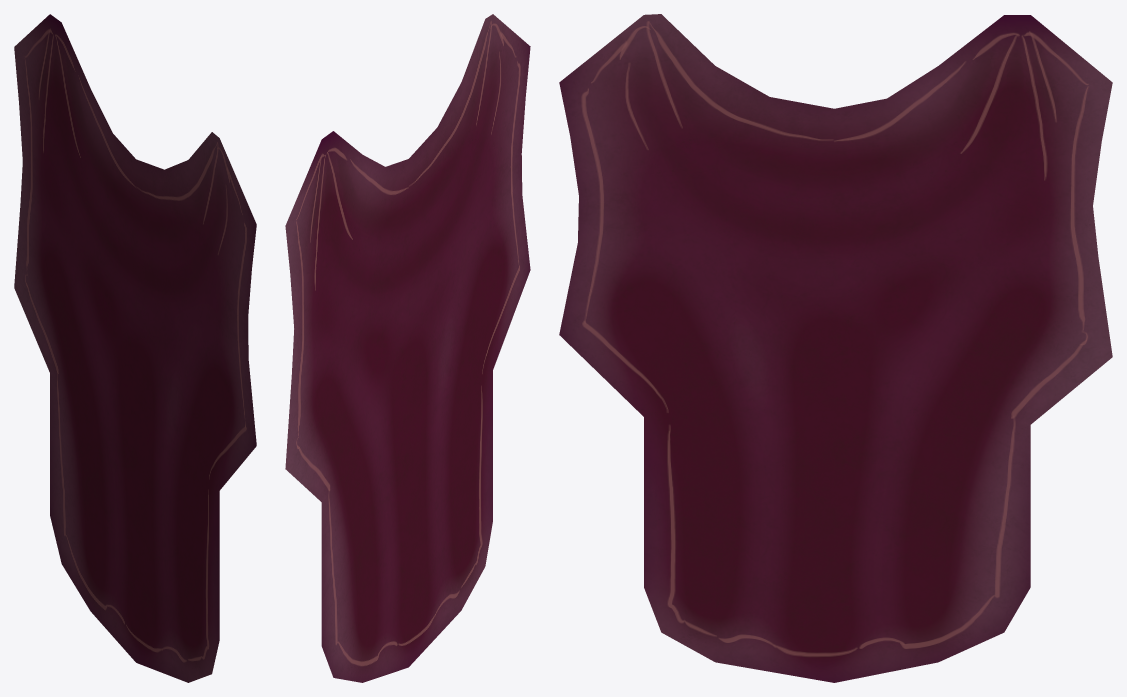
The model's file is SM_Shirt_01.fbx.
3 views of the same model, side by side, from view 1: azimuth 30°, elevation 25°; view 2: azimuth 150°, elevation 25°; view 3: azimuth 270°, elevation 25° (orthographic). The views are drawn at different scales.
Parts seen in each view (by area): view 1: SM_Shirt_01_LOD0; view 2: SM_Shirt_01_LOD0; view 3: SM_Shirt_01_LOD0.
Part boxes in pixels (left/top/right/bottom): SM_Shirt_01_LOD0: left=14, top=14, right=256, bottom=682; SM_Shirt_01_LOD0: left=285, top=14, right=530, bottom=682; SM_Shirt_01_LOD0: left=559, top=14, right=1112, bottom=682.
Size of the model in its own units: 4.58e-05 by 137 by 183.
Materials: 1 (1 with a texture image).
